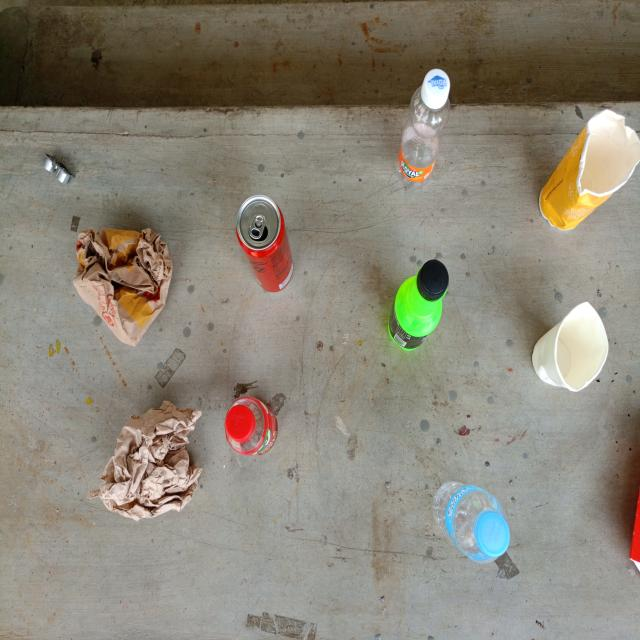Anorganik: (399, 55, 452, 187), (433, 478, 511, 566), (387, 258, 450, 352), (237, 195, 294, 293), (223, 394, 277, 457)
Organik: (93, 398, 203, 520), (538, 107, 640, 232), (73, 226, 174, 346), (531, 298, 612, 396)
